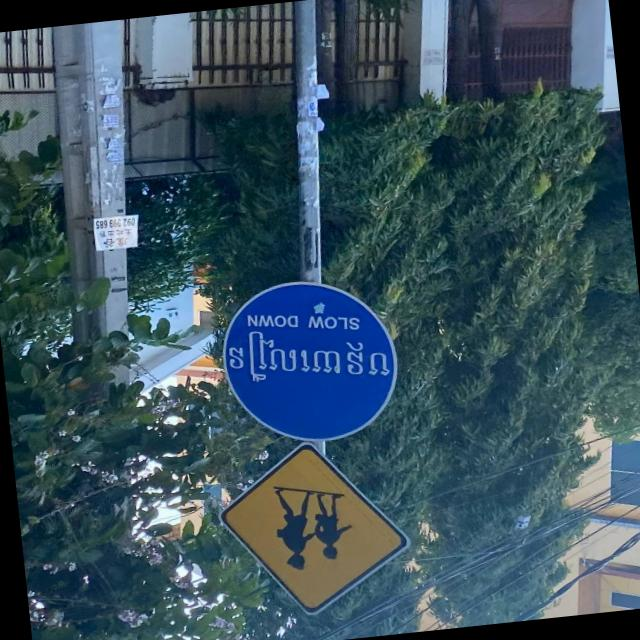Yolov11_80vkh: (223, 327, 390, 387)
